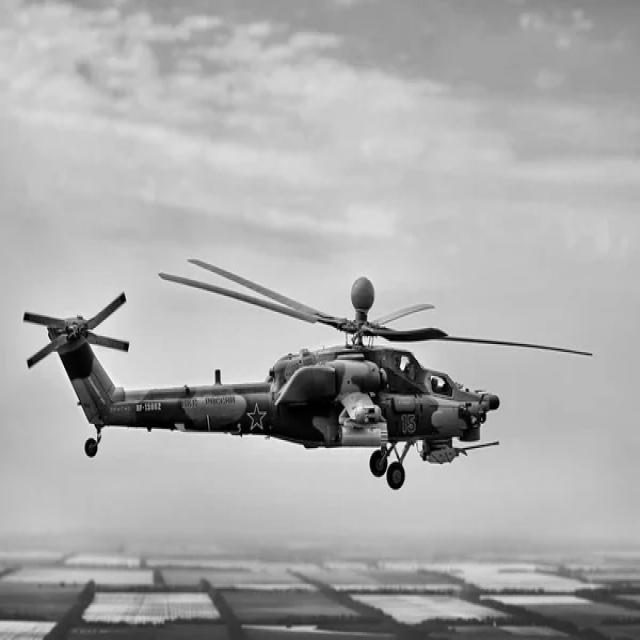Helicopter: (26, 262, 500, 490)
